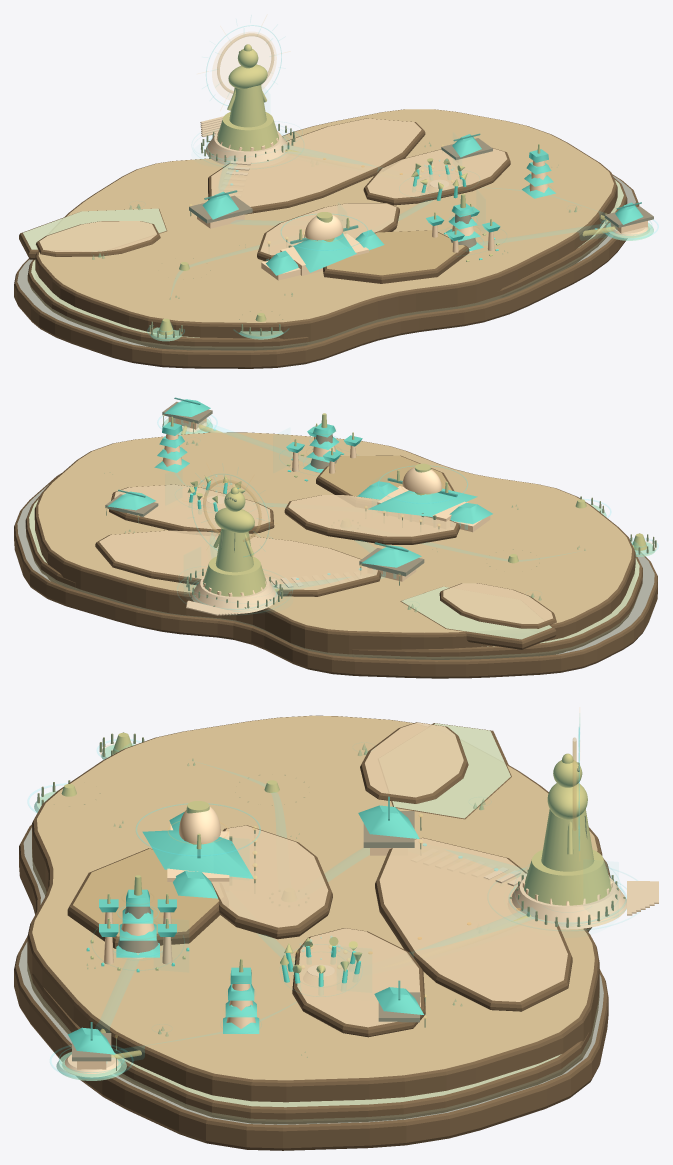
Rendered from lingshan-scene.glb.
3 renders of one model, top to bottom at view 1: azimuth 30°, elevation 25°; view 2: azimuth 150°, elevation 25°; view 3: azimuth 270°, elevation 25°, orthographic. The views are drawn at different scales.
Visible parts, largest first — view 1: terrain_main_plateau, terrain_outer_plinth, district_brahma_mandala_plate, terrain_mid_plinth_slice, district_show_service_plate, terrain_buddha_highland, district_entrance_flow_plate, district_culture_axis_plate, terrain_entry_meadow, buddha_seat, buddha_back_glow_disc, fan_gong_main_roof (+7 smaller); view 2: terrain_main_plateau, terrain_outer_plinth, district_brahma_mandala_plate, district_culture_axis_plate, terrain_mid_plinth_slice, district_show_service_plate, district_entrance_flow_plate, terrain_entry_meadow, terrain_buddha_highland, fan_gong_main_roof, buddha_seat, buddha_lotus_base (+11 smaller); view 3: terrain_main_plateau, district_brahma_mandala_plate, terrain_outer_plinth, terrain_mid_plinth_slice, district_show_service_plate, district_culture_axis_plate, district_entrance_flow_plate, terrain_buddha_highland, terrain_entry_meadow, buddha_seat, fan_gong_main_roof, buddha_lotus_base (+10 smaller).
Boxes of the visible parts, x1,y1,x2,y2 form: terrain_main_plateau: (35,109,617,350); terrain_outer_plinth: (14,174,639,368); district_brahma_mandala_plate: (208,118,425,214); terrain_mid_plinth_slice: (27,177,627,349); district_show_service_plate: (363,148,510,205); terrain_buddha_highland: (323,230,469,283); district_entrance_flow_plate: (36,221,160,256); district_culture_axis_plate: (257,203,399,261); terrain_entry_meadow: (19,208,167,259); buddha_seat: (217,112,278,151); buddha_back_glow_disc: (212,32,276,99); fan_gong_main_roof: (292,233,356,272); terrain_main_plateau: (34,432,635,657); terrain_outer_plinth: (14,473,657,678); district_brahma_mandala_plate: (95,530,381,596); district_culture_axis_plate: (284,495,460,544); terrain_mid_plinth_slice: (25,495,642,659); district_show_service_plate: (109,484,274,533); district_entrance_flow_plate: (439,583,556,628); terrain_entry_meadow: (400,586,556,649); terrain_buddha_highland: (316,455,454,496); fan_gong_main_roof: (368,488,477,516); buddha_seat: (203,556,266,596); buddha_lotus_base: (191,576,277,613); terrain_main_plateau: (27,715,602,1102); district_brahma_mandala_plate: (375,837,572,1011); terrain_outer_plinth: (14,824,610,1150); terrain_mid_plinth_slice: (31,970,589,1123); district_show_service_plate: (292,928,425,1037); district_culture_axis_plate: (211,825,332,939); district_entrance_flow_plate: (360,722,468,803); terrain_buddha_highland: (67,848,219,948); terrain_entry_meadow: (391,723,511,819); buddha_seat: (524,849,611,905); fan_gong_main_roof: (142,830,253,878); buddha_lotus_base: (511,877,626,929).
Bounding box in the file's own units: 10.95 × 3.13 × 7.51.
